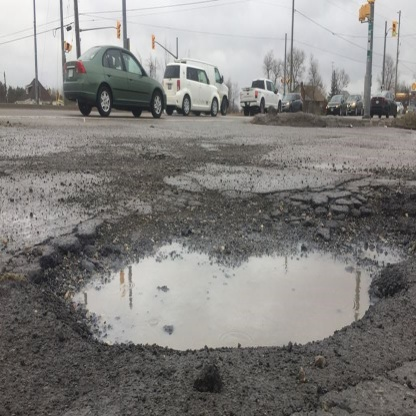pothole: (20, 188, 414, 373)
